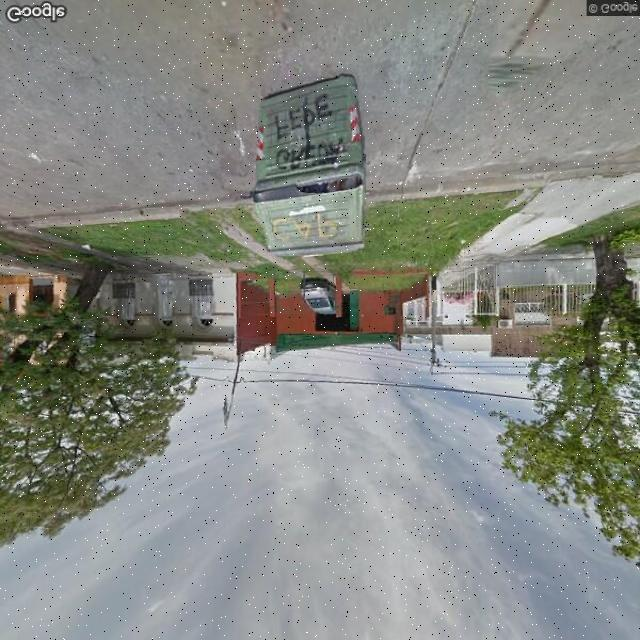garbage container: (247, 64, 378, 263)
